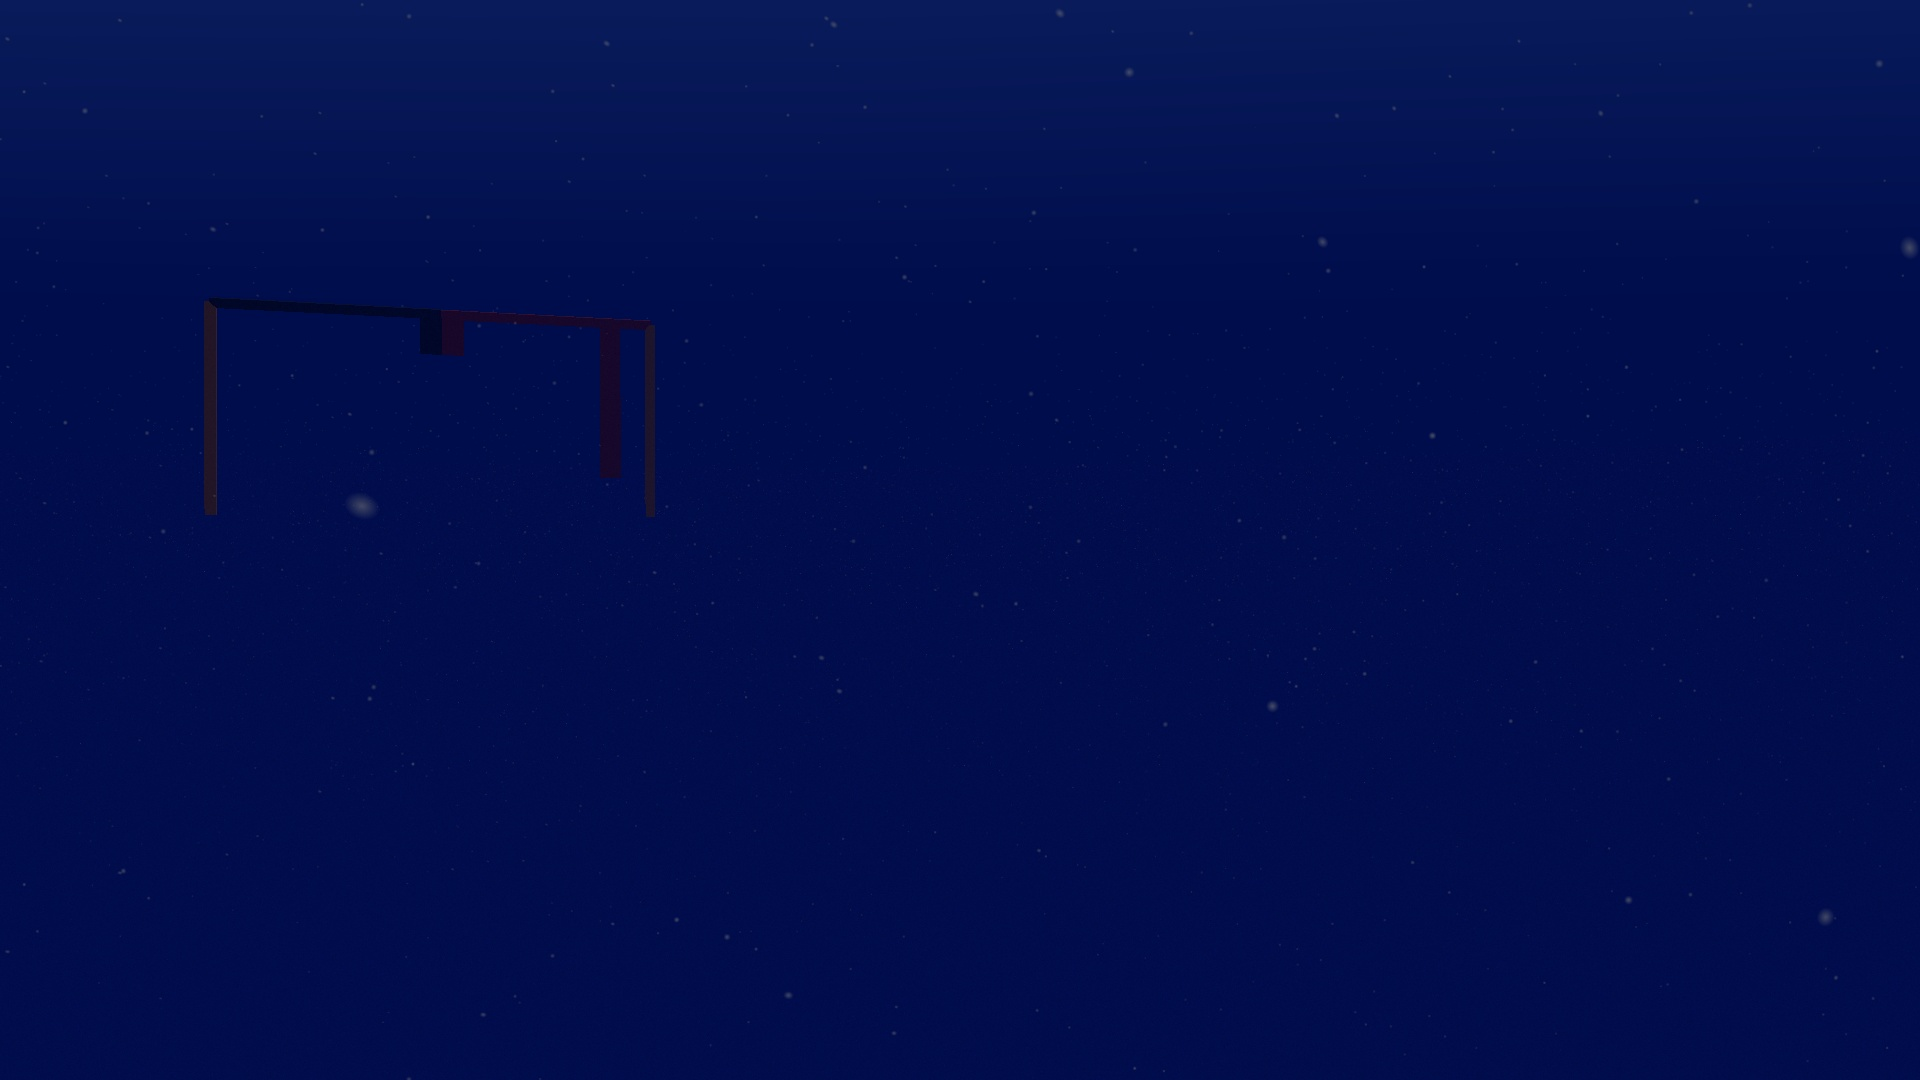Gate: (194, 287, 666, 533)
